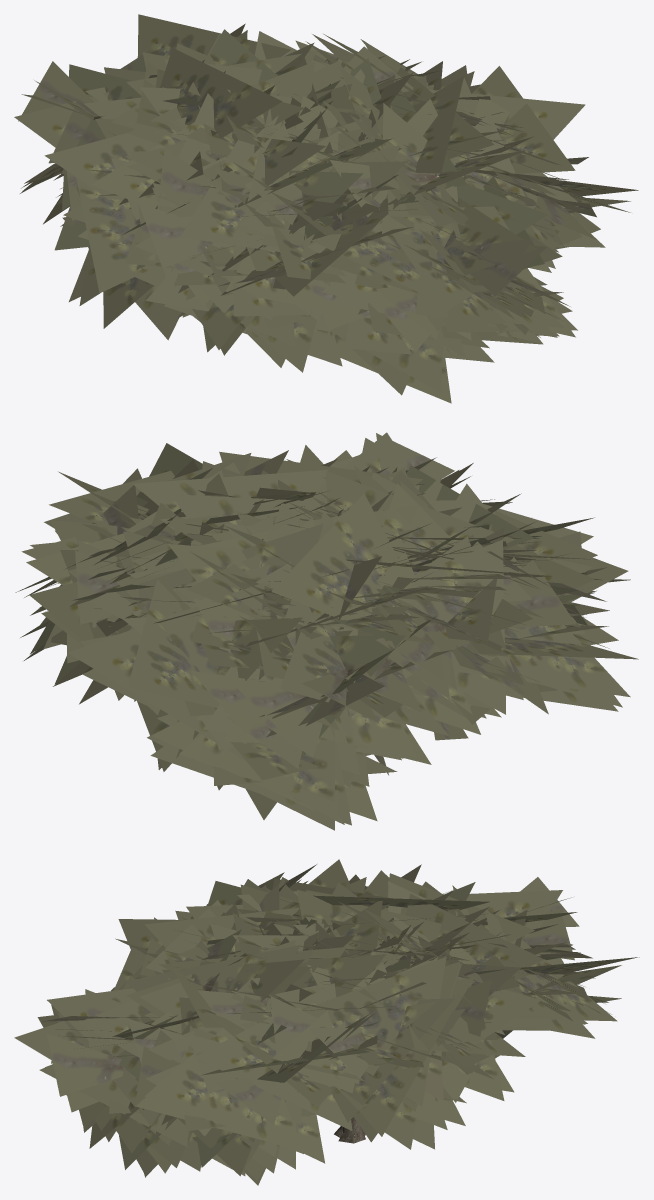
Rendered from Acacia_Tortilis_Autumn_Young.glb.
The picture shows the model from 3 angles, top to bottom: view 1: azimuth 30°, elevation 25°; view 2: azimuth 150°, elevation 25°; view 3: azimuth 270°, elevation 25°; orthographic projection. The views are drawn at different scales.
Parts seen in each view (by area): view 1: Acacia_Tortilis_Autumn_Young__LOD3; view 2: Acacia_Tortilis_Autumn_Young__LOD3; view 3: Acacia_Tortilis_Autumn_Young__LOD3.
Part boxes in pixels (box(x1,y1,x2,y2)): Acacia_Tortilis_Autumn_Young__LOD3: box(14, 14, 638, 403); Acacia_Tortilis_Autumn_Young__LOD3: box(15, 432, 638, 830); Acacia_Tortilis_Autumn_Young__LOD3: box(14, 859, 639, 1185).
Bounding box in the file's own units: 13.57 × 6.1 × 15.62.
2 materials, 2 textured.
